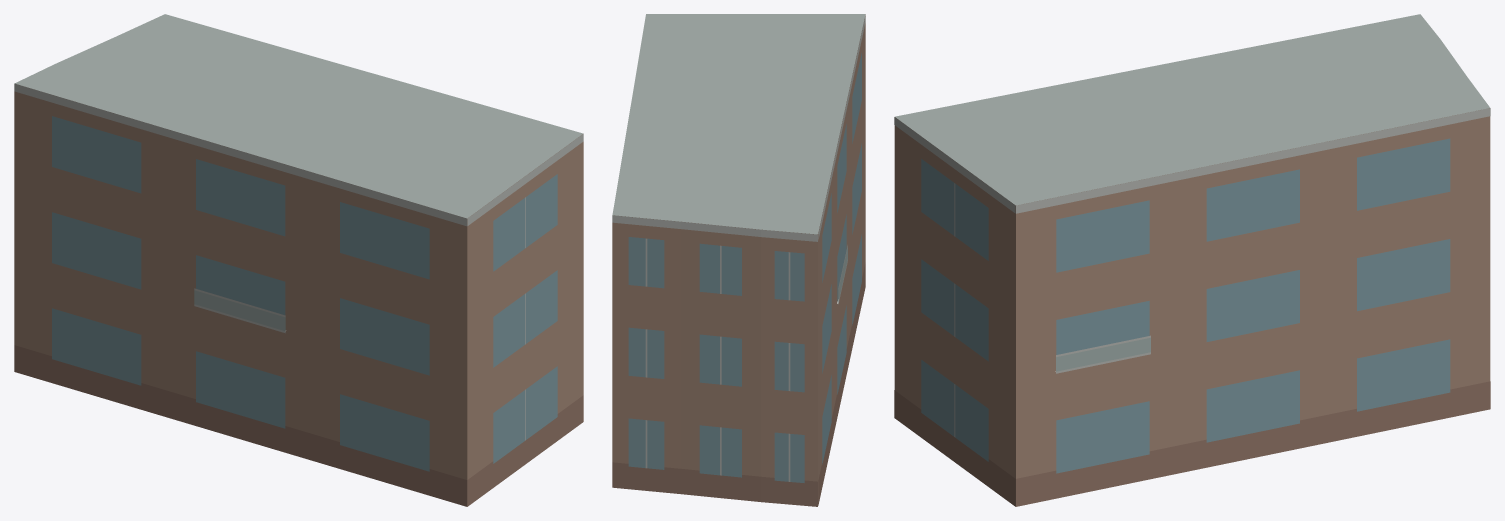
Rendered from survey-upis-32744704.glb.
The picture shows the model from 3 angles, left to right: view 1: azimuth 30°, elevation 25°; view 2: azimuth 150°, elevation 25°; view 3: azimuth 270°, elevation 25°; orthographic projection. The views are drawn at different scales.
Visible parts, largest first — view 1: survey-upis-32744704.tmp; view 2: survey-upis-32744704.tmp; view 3: survey-upis-32744704.tmp.
Boxes of the visible parts, box(x1,y1,x2,y2) form: survey-upis-32744704.tmp: box(14, 14, 583, 506); survey-upis-32744704.tmp: box(612, 14, 865, 506); survey-upis-32744704.tmp: box(894, 14, 1490, 506).
Bounding box in the file's own units: 12.14 × 8.9 × 15.96.
